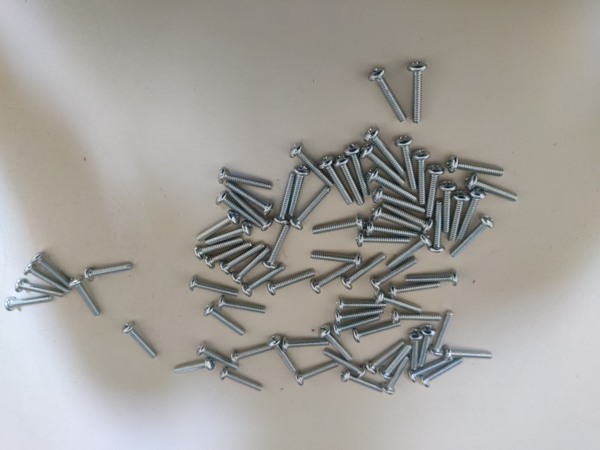longscrew: (369, 68, 406, 123), (464, 173, 522, 207), (292, 143, 335, 188), (290, 186, 332, 231), (222, 180, 276, 215), (361, 144, 407, 184), (228, 190, 275, 229), (385, 236, 435, 271), (369, 129, 406, 174), (452, 219, 493, 259), (321, 156, 352, 207), (386, 199, 438, 229), (380, 199, 432, 229), (335, 155, 366, 205), (34, 252, 72, 292), (369, 171, 421, 200), (370, 200, 422, 229), (342, 254, 385, 289), (24, 262, 70, 294), (347, 146, 374, 199), (231, 249, 273, 283), (204, 305, 246, 339), (447, 155, 506, 179), (218, 167, 274, 192), (243, 264, 284, 298), (216, 196, 259, 228), (218, 245, 265, 274), (203, 241, 250, 269), (374, 289, 426, 314), (370, 259, 418, 286), (123, 323, 157, 361), (322, 349, 366, 378), (320, 327, 357, 361), (309, 265, 353, 293), (70, 277, 100, 318), (367, 340, 404, 373), (193, 234, 241, 259), (13, 275, 67, 297), (423, 359, 465, 387), (197, 212, 239, 240), (220, 367, 263, 394), (277, 169, 297, 226), (206, 221, 253, 245), (265, 224, 290, 269), (462, 189, 484, 240), (218, 294, 269, 316), (196, 345, 239, 371), (339, 371, 385, 395), (267, 272, 315, 295), (189, 277, 239, 299), (298, 362, 341, 387), (383, 345, 412, 382), (227, 343, 280, 363), (370, 214, 418, 236), (270, 336, 297, 375), (353, 321, 400, 343), (427, 161, 443, 222), (415, 144, 431, 205), (400, 132, 416, 193), (410, 62, 426, 123), (83, 262, 136, 280), (3, 293, 53, 312), (392, 305, 444, 323), (449, 191, 467, 243), (312, 249, 361, 268), (349, 231, 411, 246), (335, 316, 381, 336), (309, 217, 368, 232), (387, 355, 409, 395), (405, 271, 459, 287), (290, 165, 306, 217), (445, 345, 496, 361), (409, 360, 449, 380), (436, 309, 452, 358), (281, 336, 330, 351), (332, 309, 388, 322), (390, 280, 440, 294), (171, 361, 215, 376), (336, 298, 388, 310), (433, 200, 445, 252), (444, 178, 455, 234), (423, 324, 435, 369), (410, 330, 422, 371)
